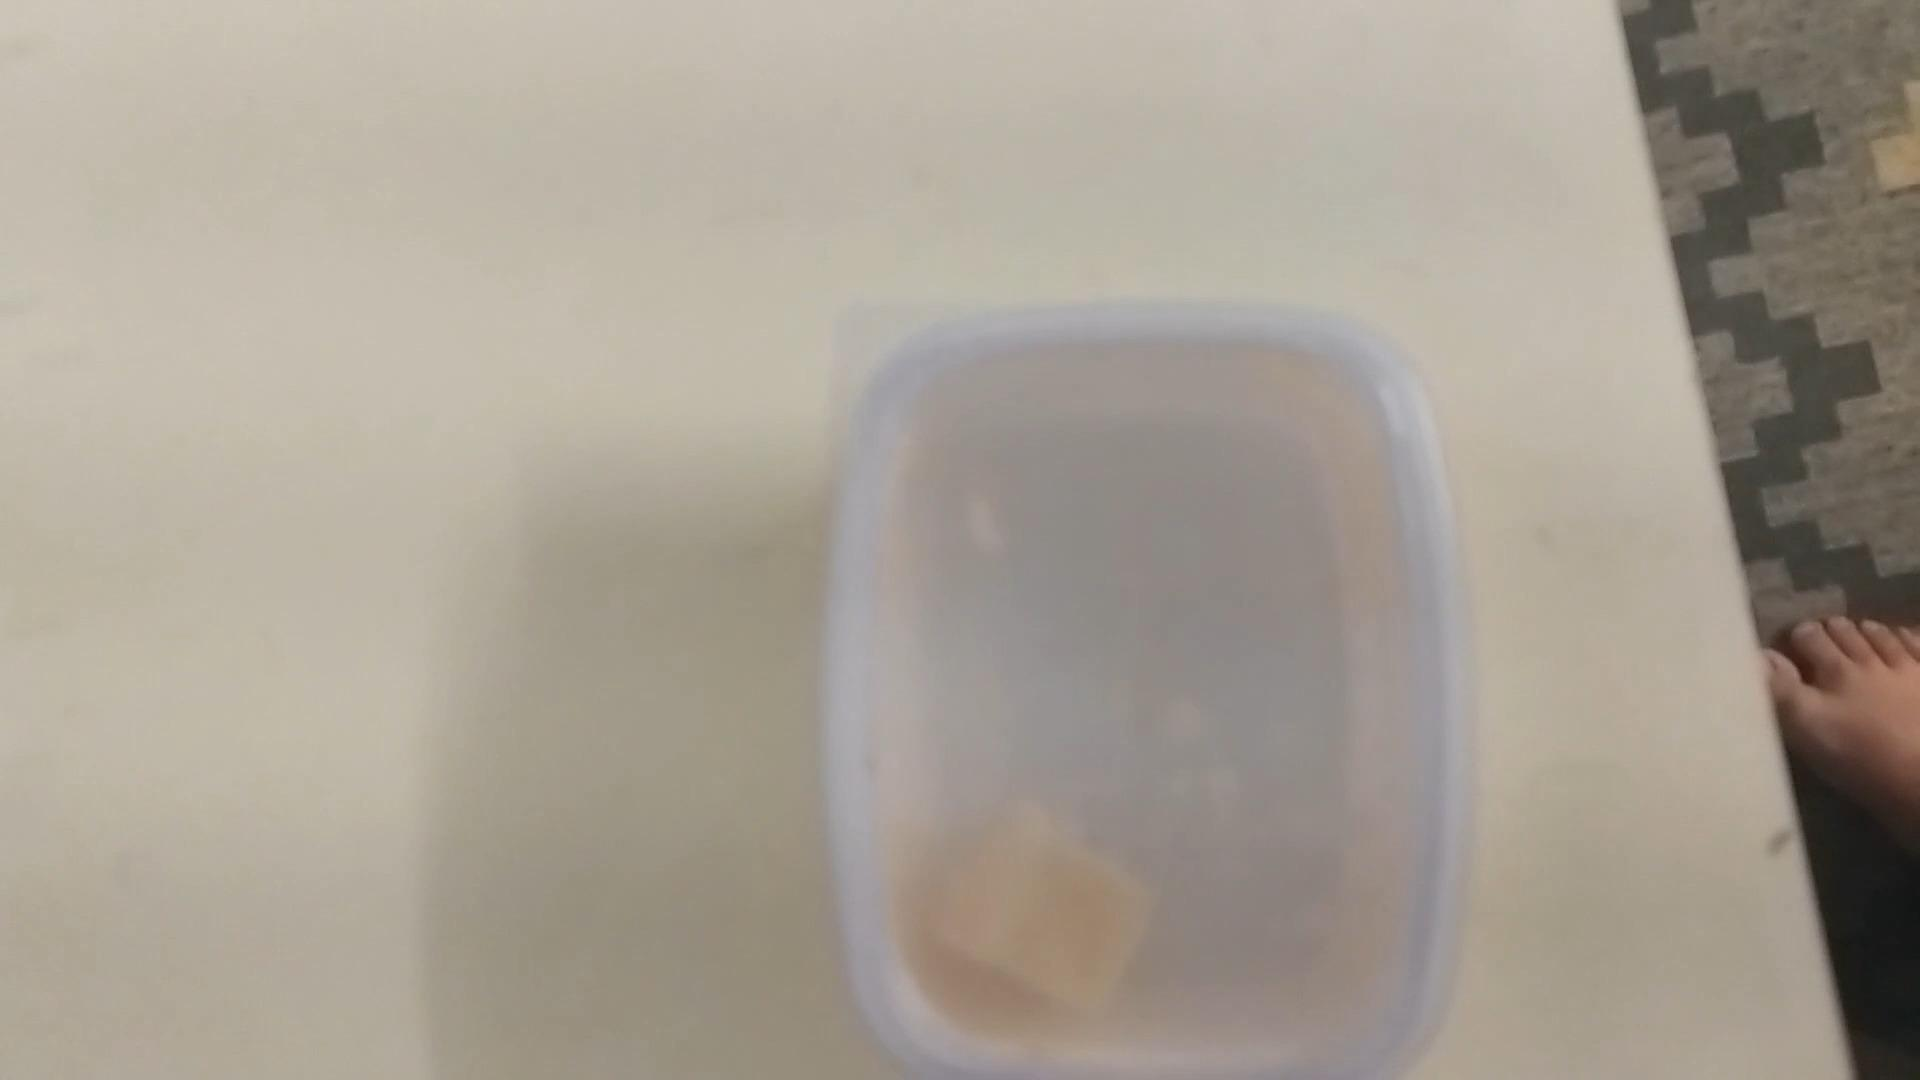butter: (829, 311, 1461, 1080)
